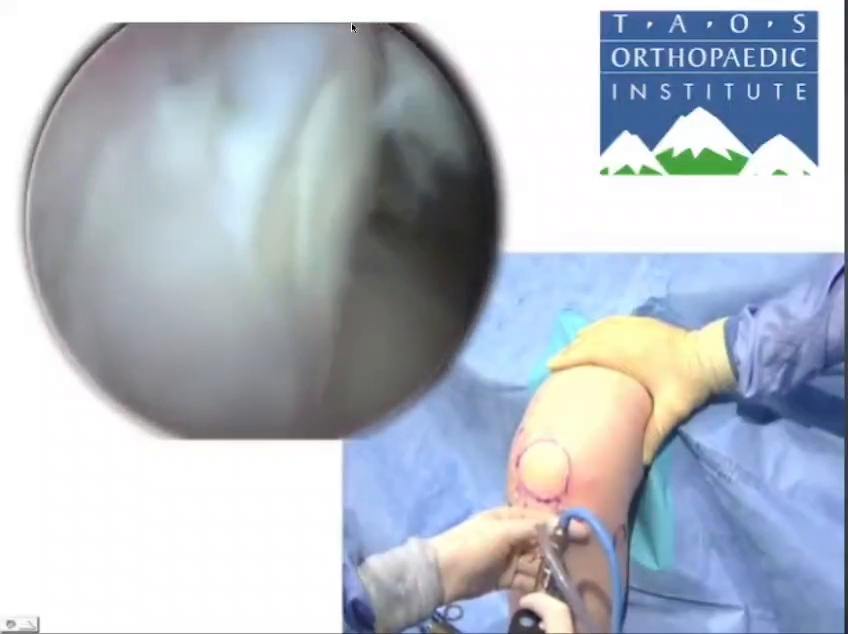probe: (189, 429, 333, 459)
